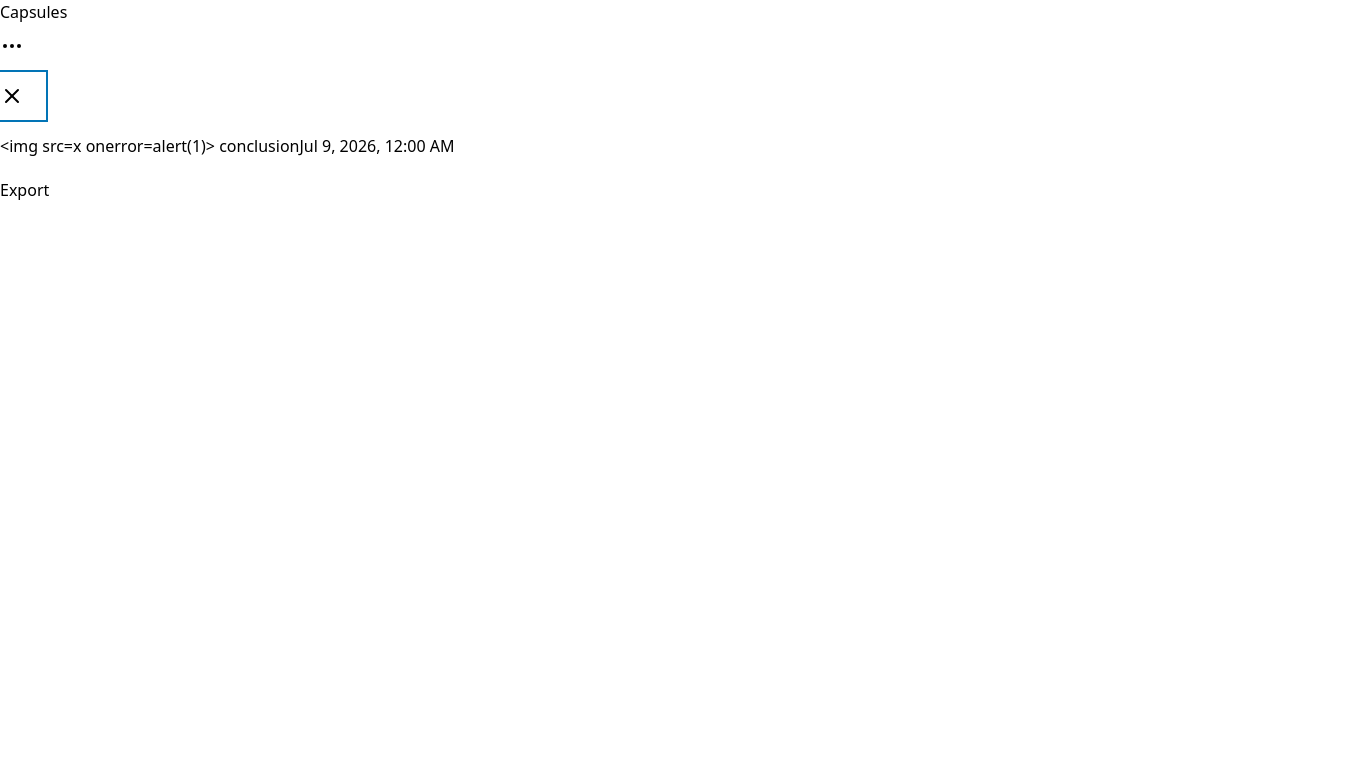
Scenario: CapsuleLibrary › announces export failure without changing content and renders capsule text literally
Expected: the text "<img src=x onerror=alert(1)> conclusion" is shown, left=0, top=135, right=300, bottom=157
Click the button "Export" at (25, 190), box left=0, top=168, right=49, bottom=212
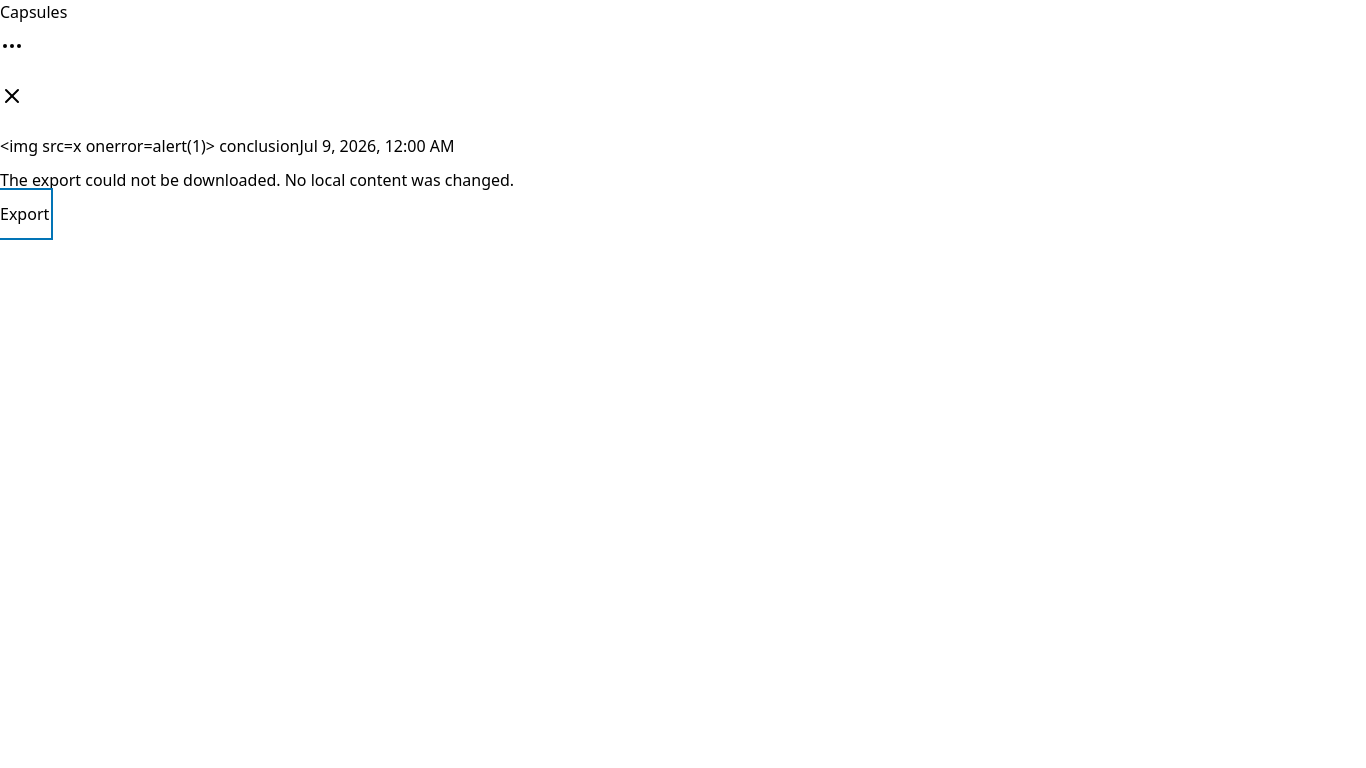
Now the message reads "The export could not be downloaded. No local content was changed.", box left=0, top=169, right=514, bottom=191
